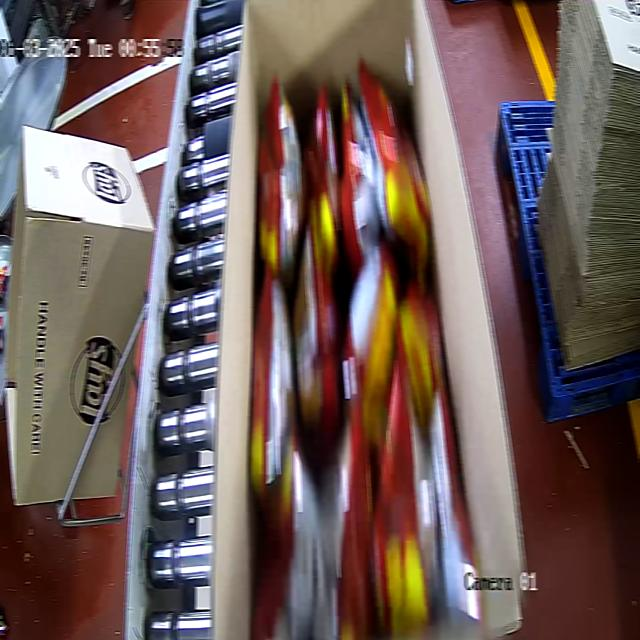MASALA: (248, 58, 481, 637)
